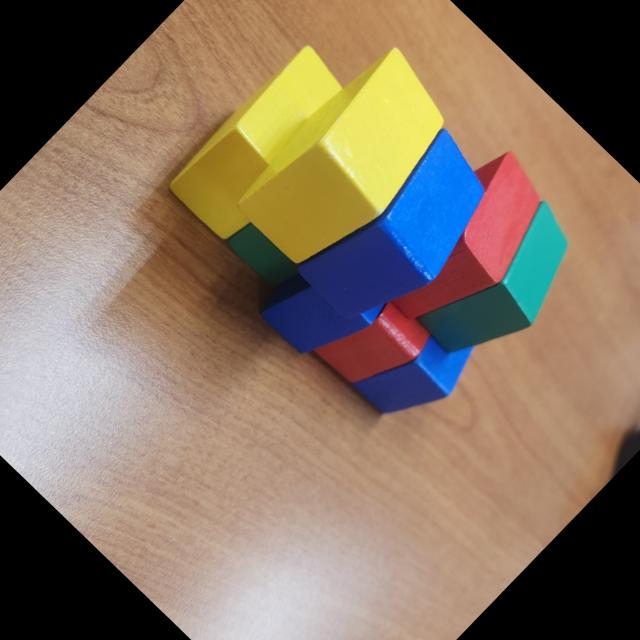blue: (294, 121, 516, 344), (349, 302, 487, 441), (256, 240, 392, 376)
green: (412, 193, 600, 383), (222, 218, 302, 297)
red: (366, 140, 572, 348), (311, 282, 435, 406)
yellow: (227, 36, 472, 284), (163, 39, 368, 248)
